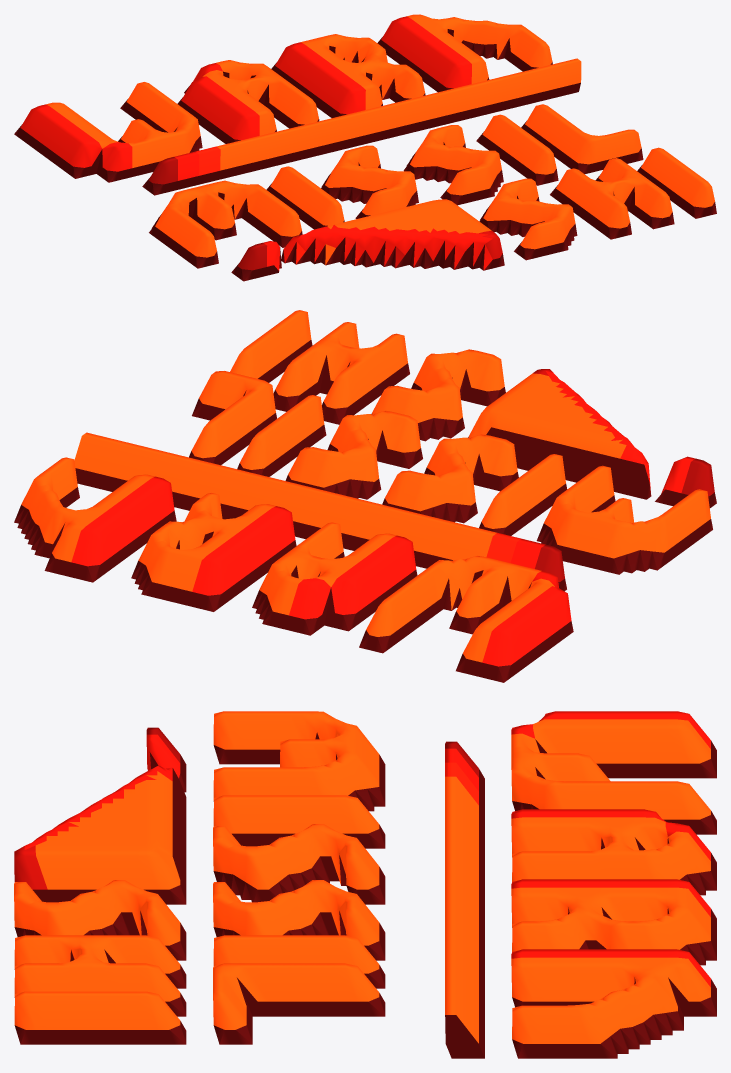
Rendered from missile_sign_left.glb.
3 renders of one model, top to bottom at view 1: azimuth 30°, elevation 25°; view 2: azimuth 150°, elevation 25°; view 3: azimuth 270°, elevation 25°, orthographic. The views are drawn at different scales.
Visible parts, largest first — view 1: missile_sign_left; view 2: missile_sign_left; view 3: missile_sign_left.
Boxes of the visible parts, box(x1,y1,x2,y2) form: missile_sign_left: box(14, 14, 716, 281); missile_sign_left: box(14, 310, 716, 682); missile_sign_left: box(14, 711, 716, 1058).
Size of the model in its own units: 22 by 1.5 by 21.2.
